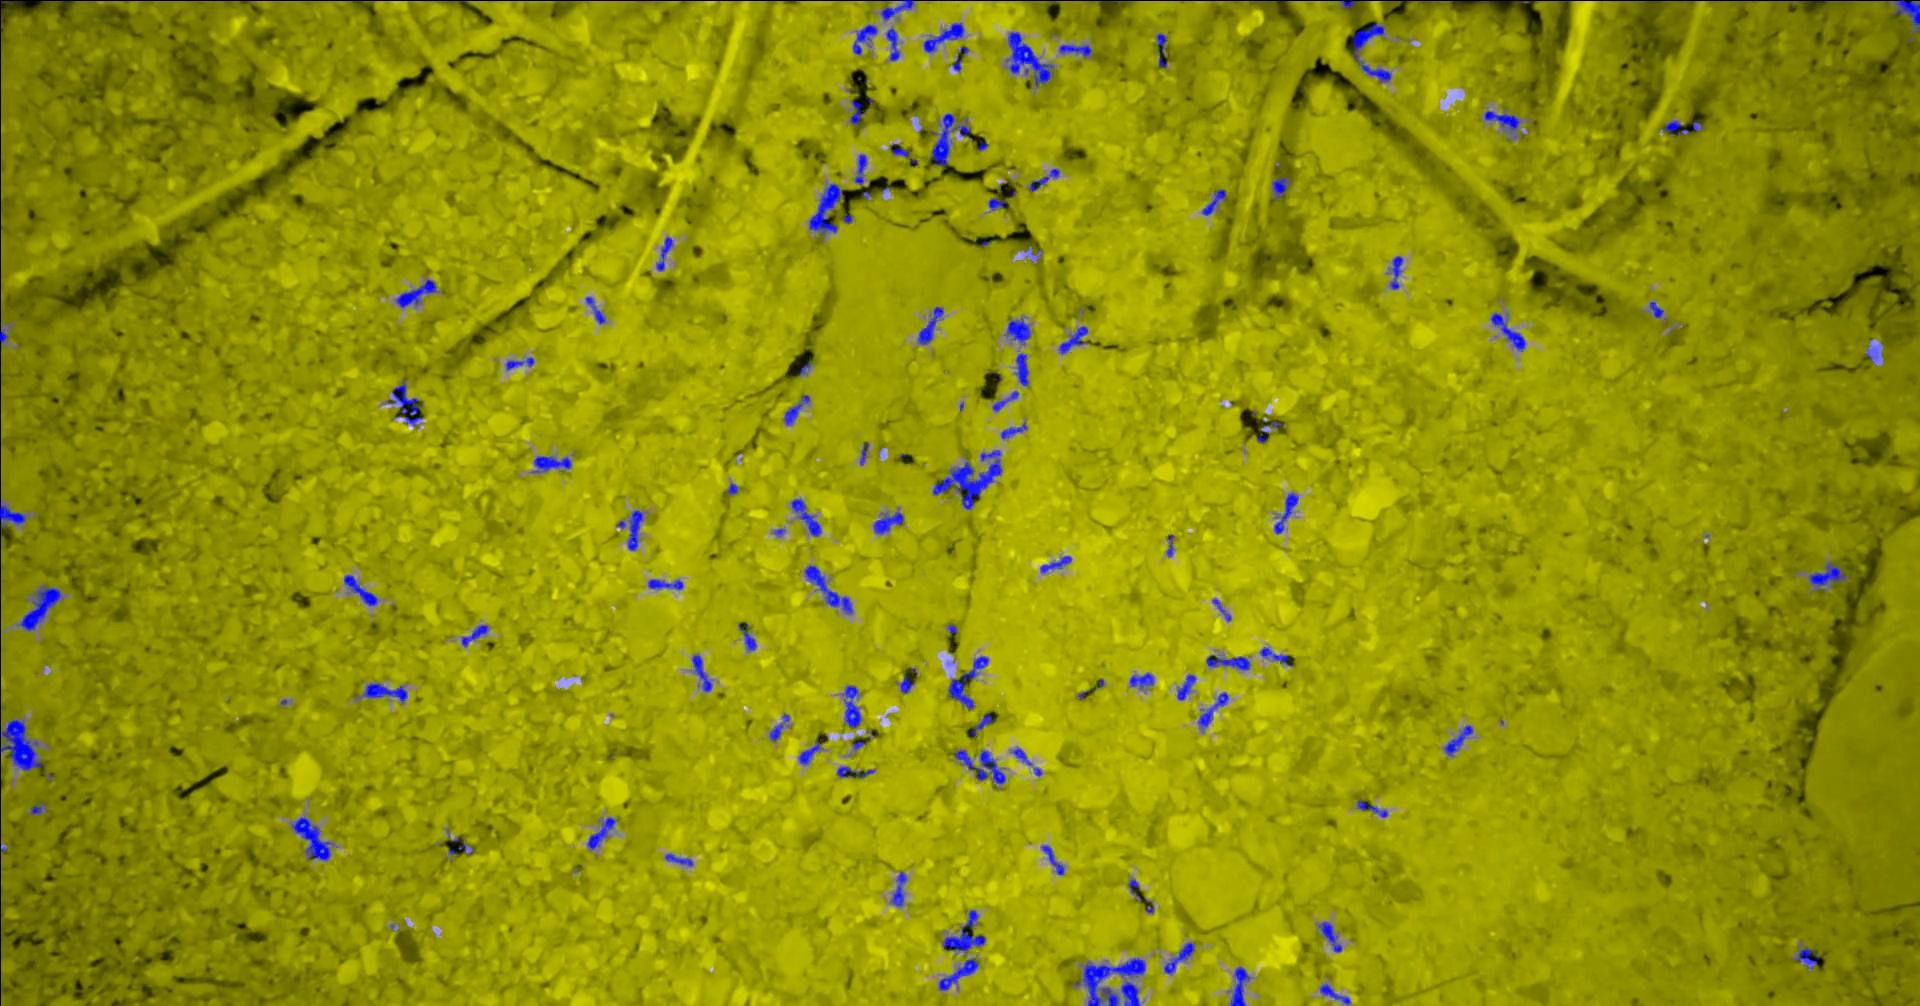ant: (1008, 30, 1055, 86), (1354, 22, 1393, 81), (806, 565, 855, 614), (950, 655, 990, 709), (932, 113, 971, 165), (956, 749, 1007, 788), (22, 586, 63, 630), (293, 815, 334, 860), (943, 909, 987, 950), (387, 379, 424, 426), (810, 183, 843, 234), (1492, 312, 1528, 351), (940, 958, 980, 989), (924, 22, 965, 52), (1199, 692, 1230, 729), (397, 279, 438, 307), (792, 498, 822, 536), (1810, 561, 1848, 591), (345, 574, 380, 605), (1276, 492, 1300, 533), (618, 511, 644, 550), (919, 306, 945, 344), (1164, 942, 1196, 973), (589, 815, 618, 848), (364, 682, 409, 702), (1445, 725, 1474, 754), (1230, 967, 1252, 1005), (1060, 325, 1090, 353), (1893, 0, 1920, 30), (785, 394, 811, 424), (1484, 111, 1521, 132), (844, 685, 862, 727), (855, 24, 879, 55), (1319, 921, 1343, 951), (1030, 168, 1062, 191), (1006, 318, 1032, 344), (1, 500, 27, 528), (693, 654, 712, 691), (875, 511, 905, 533), (1321, 983, 1352, 1005), (535, 455, 573, 473), (1208, 654, 1252, 669), (883, 0, 916, 20), (1043, 845, 1065, 874), (1261, 647, 1295, 666), (1203, 189, 1227, 215), (970, 713, 996, 737), (1258, 419, 1285, 442), (463, 624, 489, 647), (658, 236, 674, 271), (891, 871, 908, 906), (1357, 799, 1389, 817), (994, 390, 1020, 412), (587, 296, 607, 323), (771, 713, 790, 741), (1041, 555, 1073, 572), (800, 741, 823, 763), (1796, 948, 1821, 968), (740, 622, 758, 650), (1178, 674, 1197, 700), (838, 766, 876, 779), (1390, 255, 1404, 290), (888, 27, 902, 60), (1123, 981, 1142, 1005), (450, 836, 475, 854), (1661, 119, 1690, 135), (1002, 422, 1029, 438), (1272, 177, 1291, 199), (1214, 598, 1233, 621), (851, 100, 869, 124), (954, 46, 970, 71), (1017, 352, 1030, 385), (1131, 672, 1156, 688), (856, 154, 869, 184), (1060, 44, 1093, 56), (649, 579, 684, 589), (507, 357, 535, 370), (1158, 33, 1168, 66), (665, 854, 695, 865), (1013, 748, 1032, 765), (1130, 879, 1143, 901), (902, 674, 916, 694), (893, 144, 910, 158), (990, 197, 1010, 210), (1651, 301, 1665, 318), (1341, 0, 1365, 8), (1168, 533, 1175, 558)
